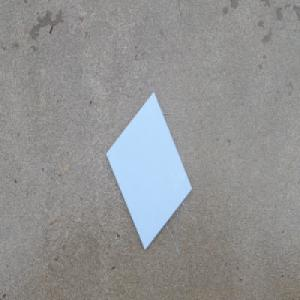PaintChip: (103, 89, 192, 251)
